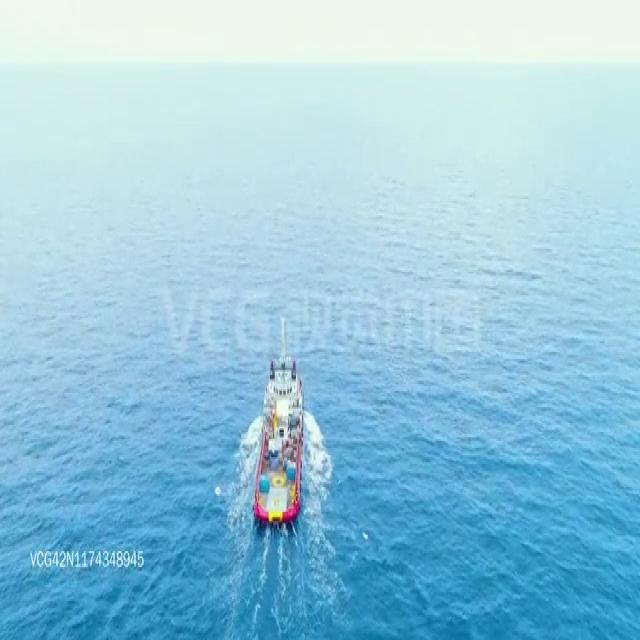fishing boat: (252, 312, 304, 520)
